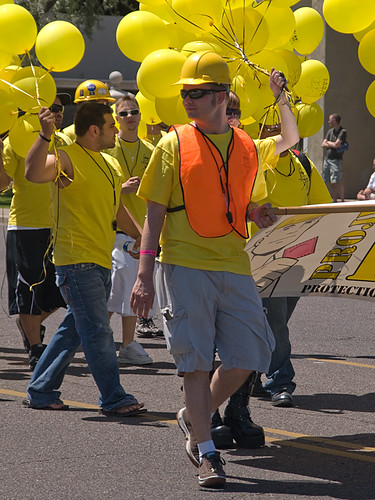person hardhat: (136, 51, 292, 493), (61, 75, 124, 134)
